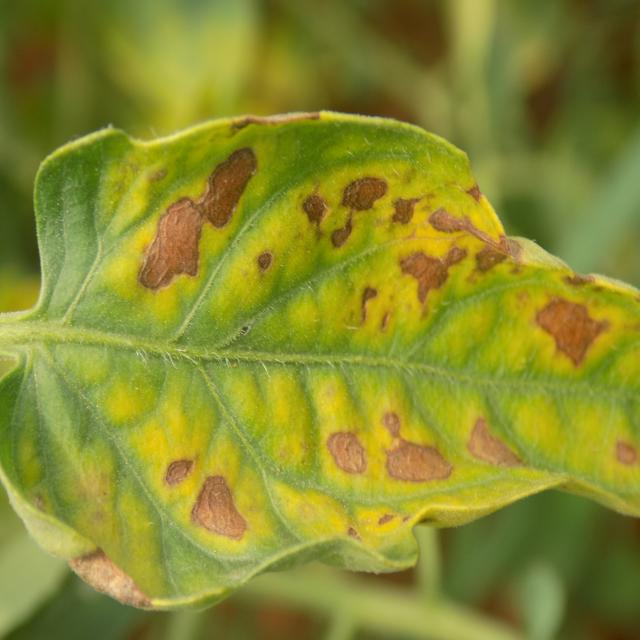tomato_early blight: (0, 112, 640, 610)
